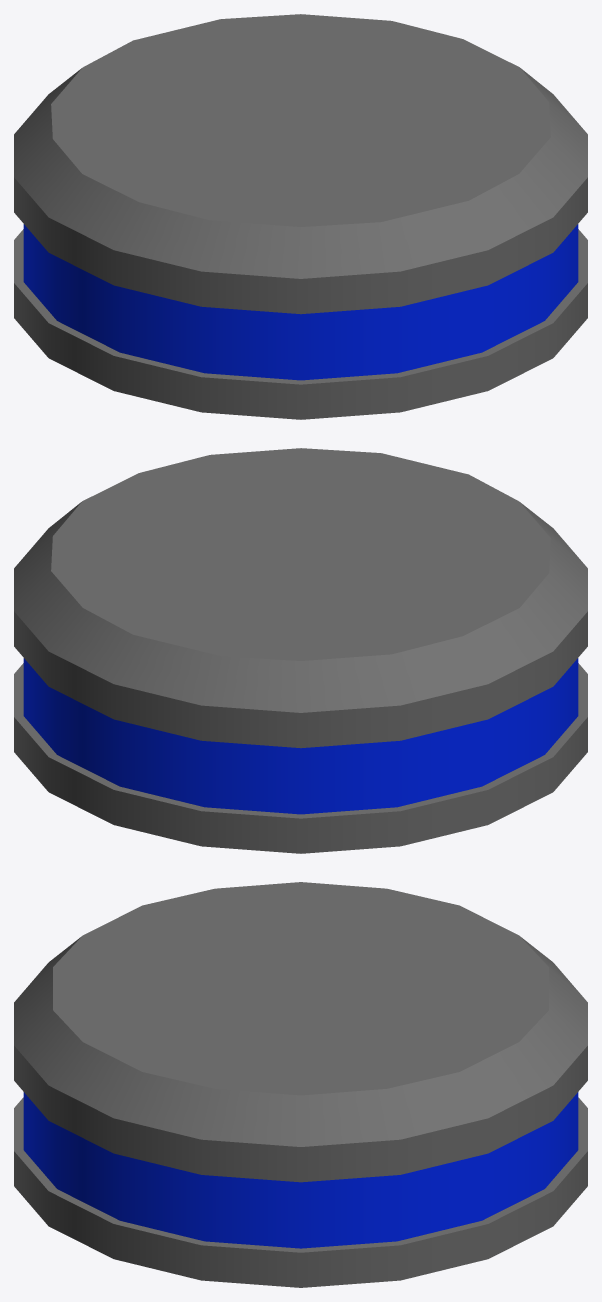
File: Button_Base_V2.fbx
3 views of the same model, one above another, from view 1: azimuth 30°, elevation 25°; view 2: azimuth 150°, elevation 25°; view 3: azimuth 270°, elevation 25° (orthographic).
Parts seen in each view (by area): view 1: Button_Base; view 2: Button_Base; view 3: Button_Base.
Part boxes in pixels (box(x1,y1,x2,y2)): Button_Base: box(14, 14, 587, 419); Button_Base: box(14, 448, 587, 853); Button_Base: box(14, 882, 587, 1287).
Size of the model in its own units: 30 by 10 by 29.54.
